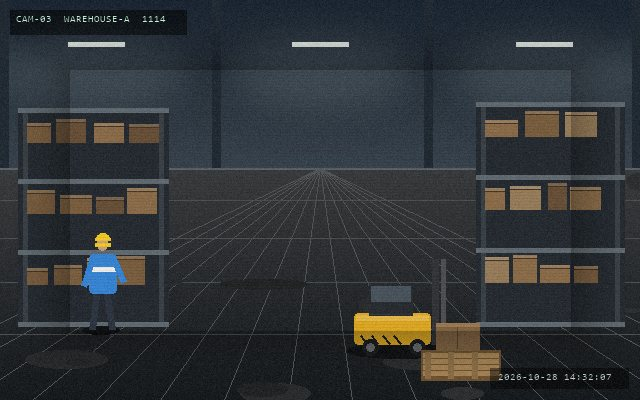forklift: (350, 257, 471, 358)
pallet: (419, 348, 502, 382)
person: (81, 231, 125, 333)
shelf: (476, 102, 624, 322), (18, 108, 168, 322)
